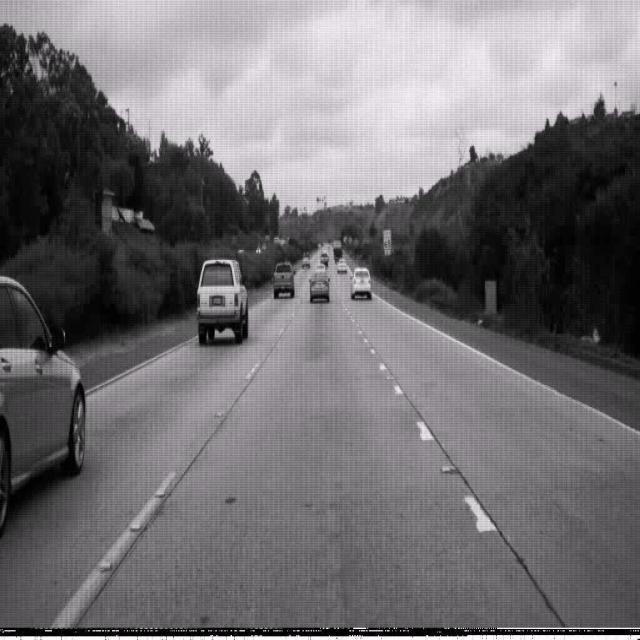speedLimit65: (382, 228, 392, 251)
